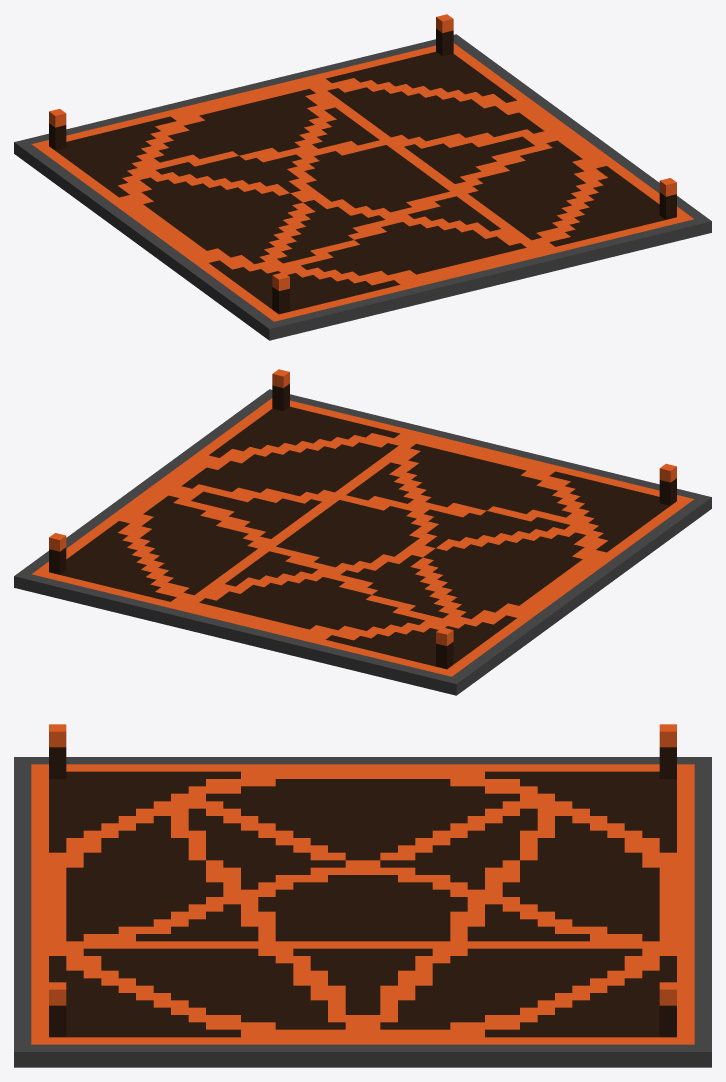
The model's file is Factory Bits-0-PENTA.obj.
3 renders of one model, top to bottom at view 1: azimuth 30°, elevation 25°; view 2: azimuth 150°, elevation 25°; view 3: azimuth 270°, elevation 25°, orthographic. The views are drawn at different scales.
Parts seen in each view (by area): view 1: PENTA; view 2: PENTA; view 3: PENTA.
Boxes of the visible parts, bbox=[...] form: PENTA: bbox=[14, 14, 711, 340]; PENTA: bbox=[14, 369, 711, 695]; PENTA: bbox=[14, 724, 711, 1067].
Size of the model in its own units: 4 by 0.4 by 4.
Materials: 1 (1 with a texture image).
